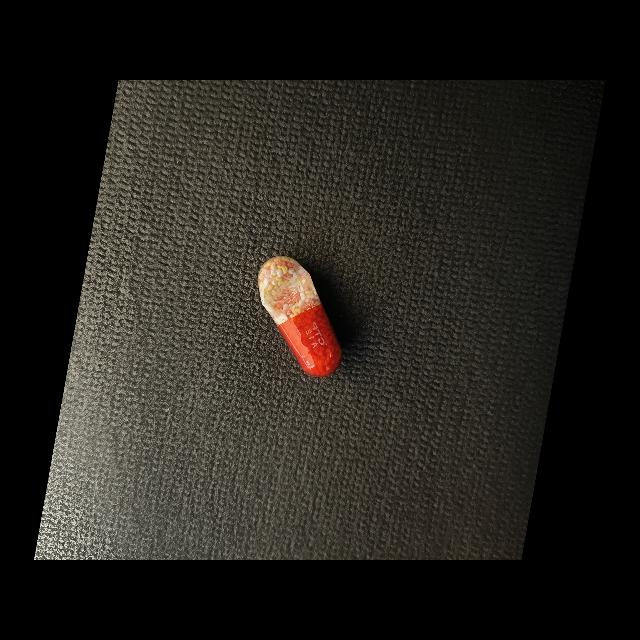Defective Capsule: (258, 256, 342, 377)
